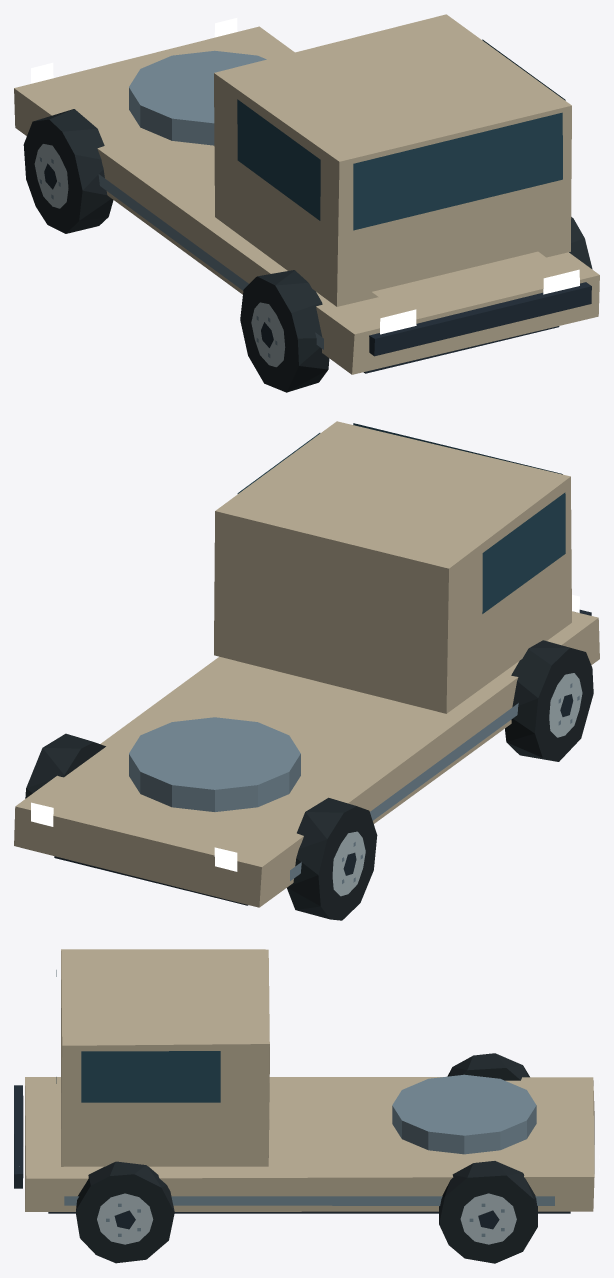
File: road-tractor-truck.lod2.glb
3 views of the same model, one above another, from view 1: azimuth 30°, elevation 25°; view 2: azimuth 150°, elevation 25°; view 3: azimuth 270°, elevation 25° (orthographic). The views are drawn at different scales.
Visible parts, largest first — view 1: road-tractor-truck__body, road-tractor-truck__wheel_steer_1_l, road-tractor-truck__wheel_steer_0_l, road-tractor-truck__wheel_steer_0_r; view 2: road-tractor-truck__body, road-tractor-truck__wheel_steer_1_l, road-tractor-truck__wheel_steer_0_l, road-tractor-truck__wheel_steer_1_r; view 3: road-tractor-truck__body, road-tractor-truck__wheel_steer_1_r, road-tractor-truck__wheel_steer_0_r, road-tractor-truck__wheel_steer_1_l.
Part boxes in pixels (box(x1,y1,x2,y2)): road-tractor-truck__body: box(14, 14, 599, 374); road-tractor-truck__wheel_steer_1_l: box(23, 109, 113, 233); road-tractor-truck__wheel_steer_0_l: box(240, 270, 329, 392); road-tractor-truck__wheel_steer_0_r: box(569, 217, 592, 269); road-tractor-truck__body: box(14, 421, 599, 907); road-tractor-truck__wheel_steer_1_l: box(287, 797, 377, 920); road-tractor-truck__wheel_steer_0_l: box(505, 640, 593, 761); road-tractor-truck__wheel_steer_1_r: box(25, 733, 105, 798); road-tractor-truck__body: box(14, 949, 599, 1213); road-tractor-truck__wheel_steer_1_r: box(439, 1161, 537, 1263); road-tractor-truck__wheel_steer_0_r: box(76, 1161, 174, 1263); road-tractor-truck__wheel_steer_1_l: box(447, 1053, 529, 1080).
Bounding box in the file's own units: 2.84 × 2.21 × 5.69.
